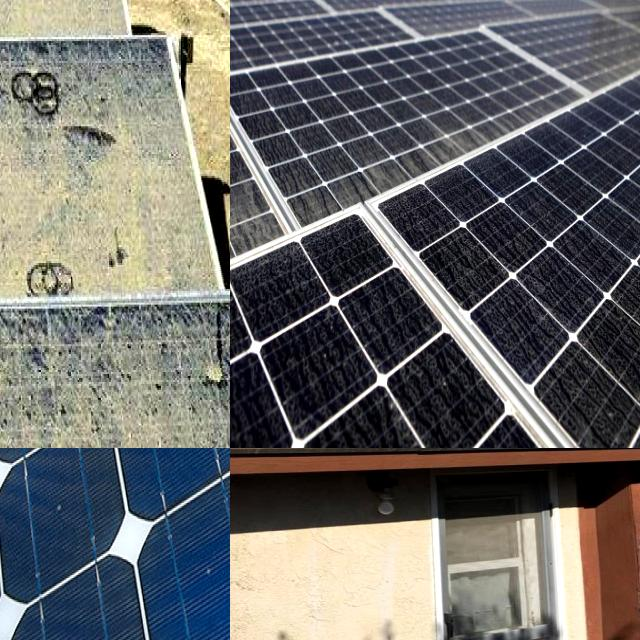crack: (0, 448, 230, 640)
dust: (0, 48, 109, 301), (445, 192, 572, 349), (0, 46, 72, 291), (119, 313, 230, 448), (0, 311, 107, 448), (118, 62, 176, 289), (0, 311, 81, 448), (230, 258, 318, 366), (0, 62, 29, 330), (0, 0, 140, 49), (0, 60, 25, 334), (400, 369, 479, 448), (594, 316, 640, 448), (230, 132, 276, 260), (280, 115, 344, 207), (345, 448, 548, 477), (375, 83, 438, 168), (181, 176, 220, 310), (358, 301, 432, 369), (230, 388, 309, 448), (614, 99, 640, 263), (310, 232, 380, 290), (0, 0, 90, 44), (230, 448, 338, 482), (303, 369, 347, 448), (0, 51, 16, 230), (576, 20, 628, 73), (458, 86, 510, 136), (230, 163, 257, 251)
